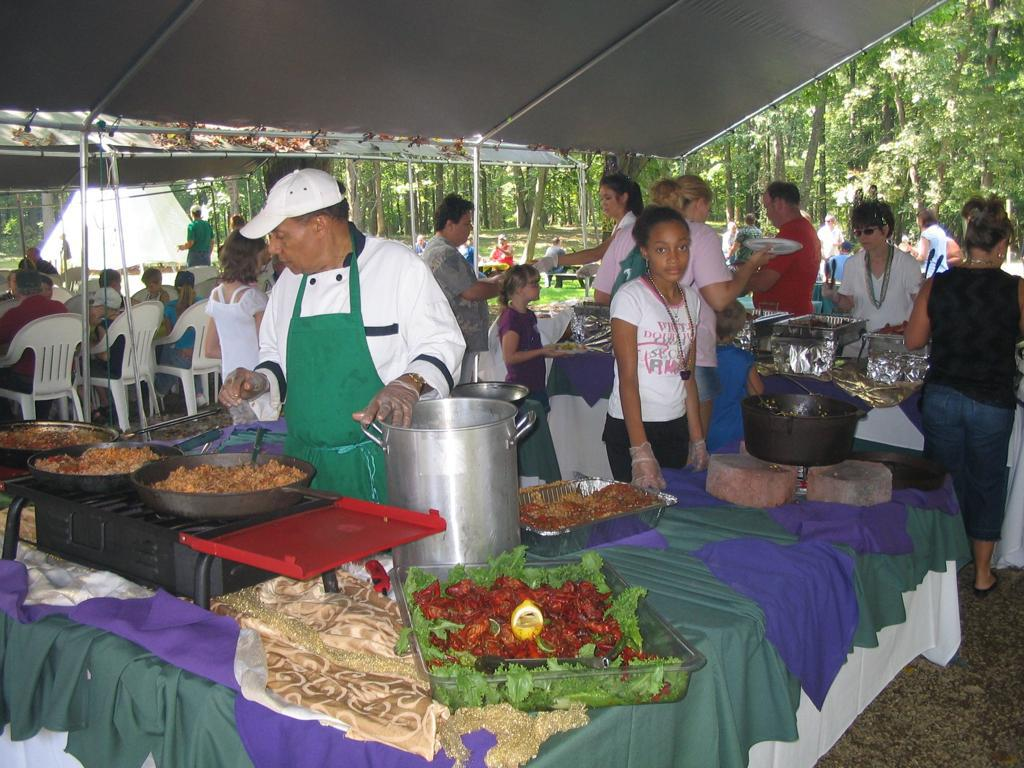face: (268, 207, 316, 277), (652, 230, 690, 282), (763, 193, 785, 227), (451, 213, 473, 245), (857, 228, 882, 252), (599, 188, 619, 217), (522, 279, 541, 301), (702, 196, 715, 224), (256, 252, 267, 278), (108, 280, 122, 298), (146, 280, 161, 296), (11, 274, 22, 293), (40, 284, 53, 300), (28, 251, 40, 264), (499, 240, 506, 248), (826, 219, 832, 226), (418, 239, 423, 246), (733, 229, 736, 234)
